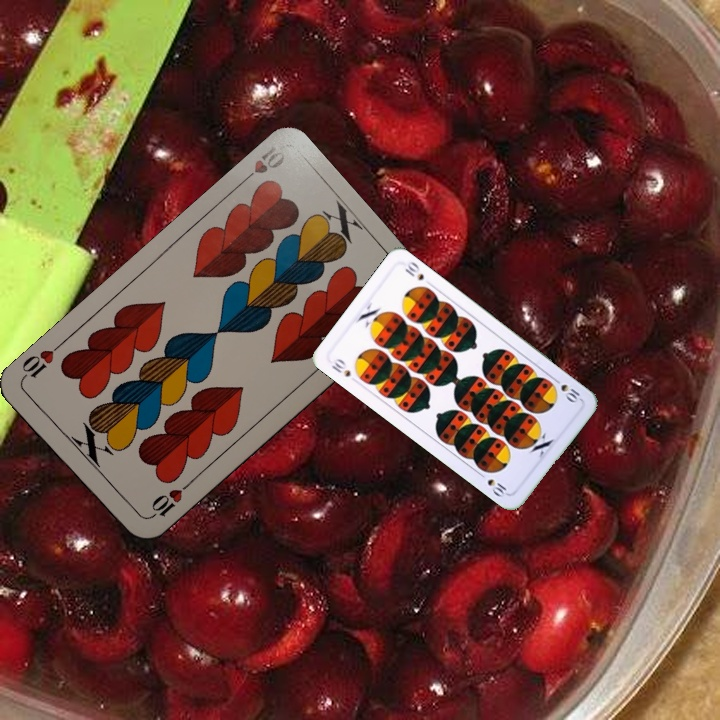H10: (234, 142, 288, 188), (143, 479, 193, 522)
S10: (549, 373, 584, 406), (327, 354, 353, 380)
